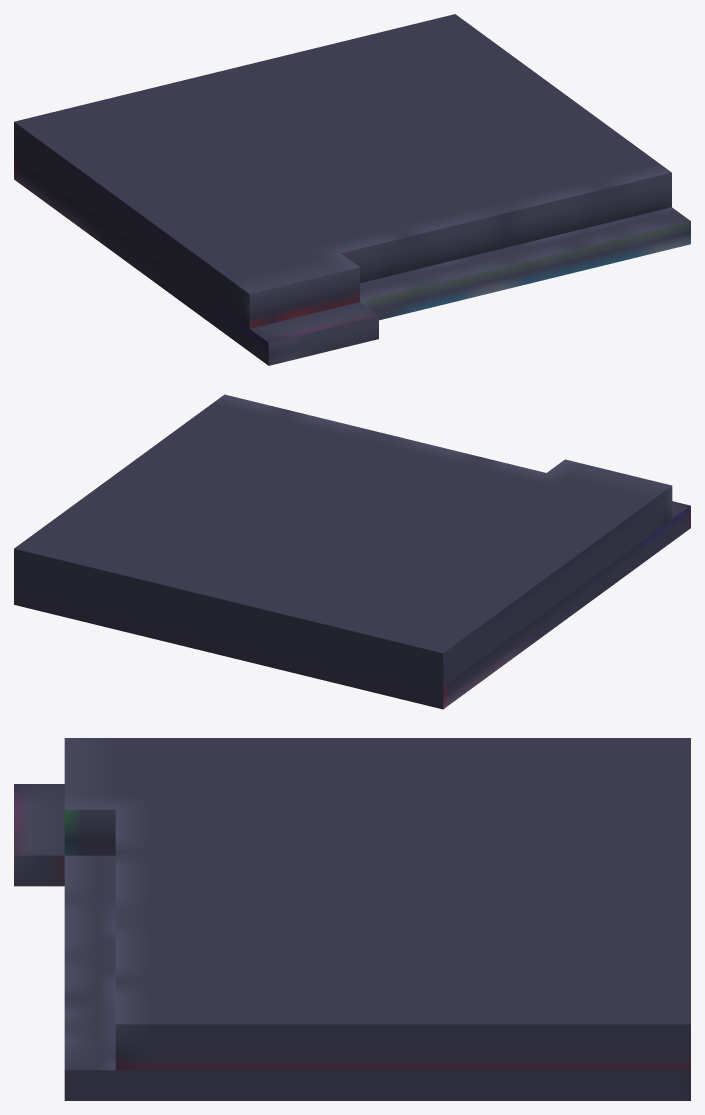
The model's file is PavementTile_L_00.fbx.
3 renders of one model, top to bottom at view 1: azimuth 30°, elevation 25°; view 2: azimuth 150°, elevation 25°; view 3: azimuth 270°, elevation 25°, orthographic. The views are drawn at different scales.
Parts seen in each view (by area): view 1: PavementTile_L_00; view 2: PavementTile_L_00; view 3: PavementTile_L_00.
Boxes of the visible parts, x1,y1,x2,y2 form: PavementTile_L_00: [14, 14, 690, 365]; PavementTile_L_00: [14, 394, 690, 709]; PavementTile_L_00: [14, 738, 690, 1100].
Size of the model in its own units: 200 by 25 by 200.
